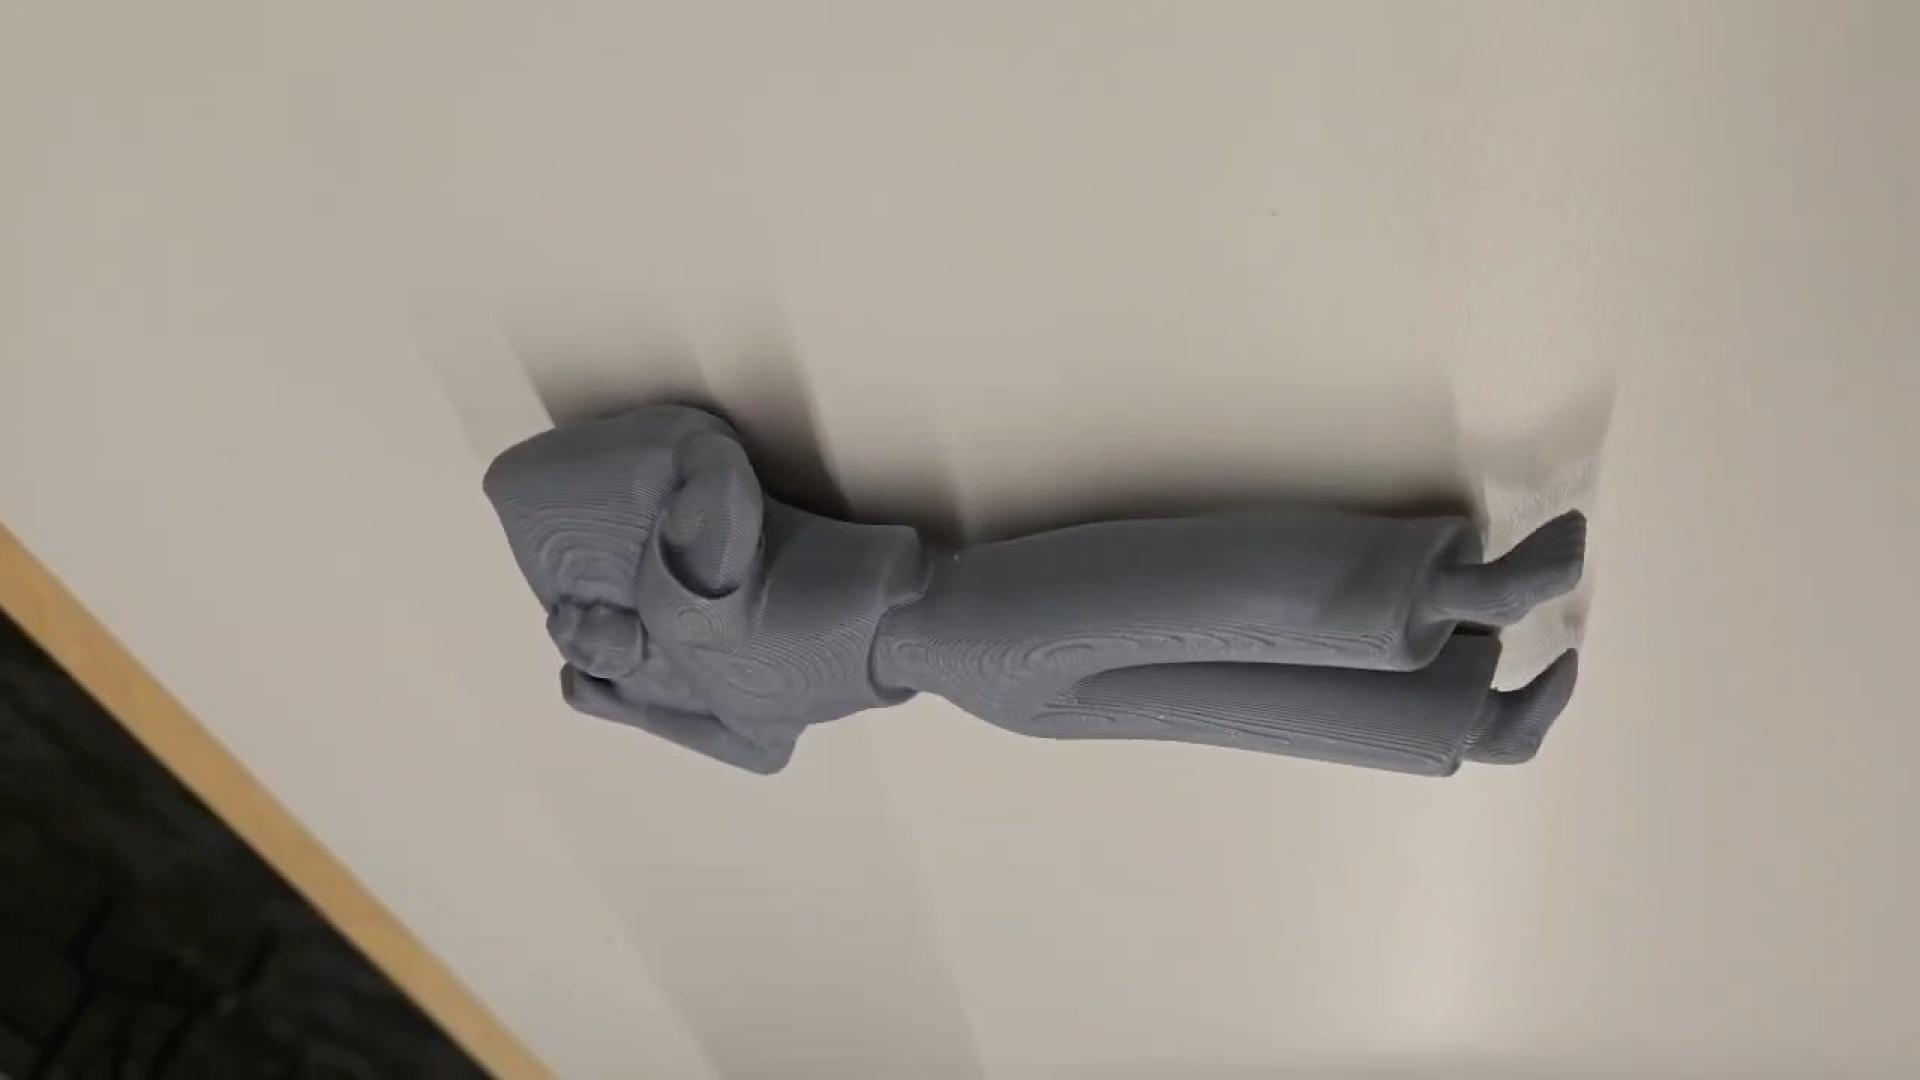Bad-style: (502, 394, 1592, 771)
